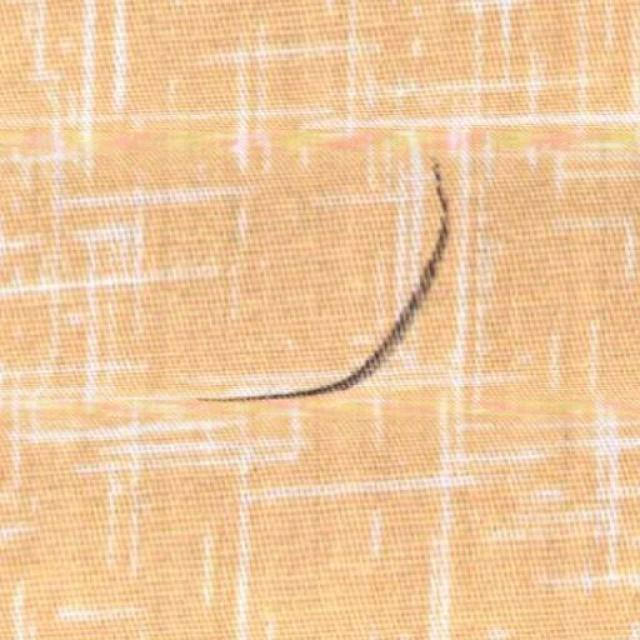stain: (199, 162, 453, 402)
